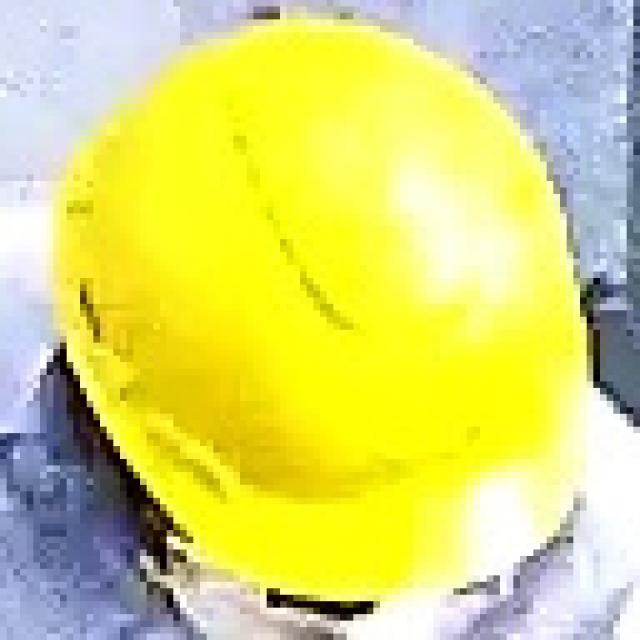yellow helmet: (53, 17, 590, 599)
